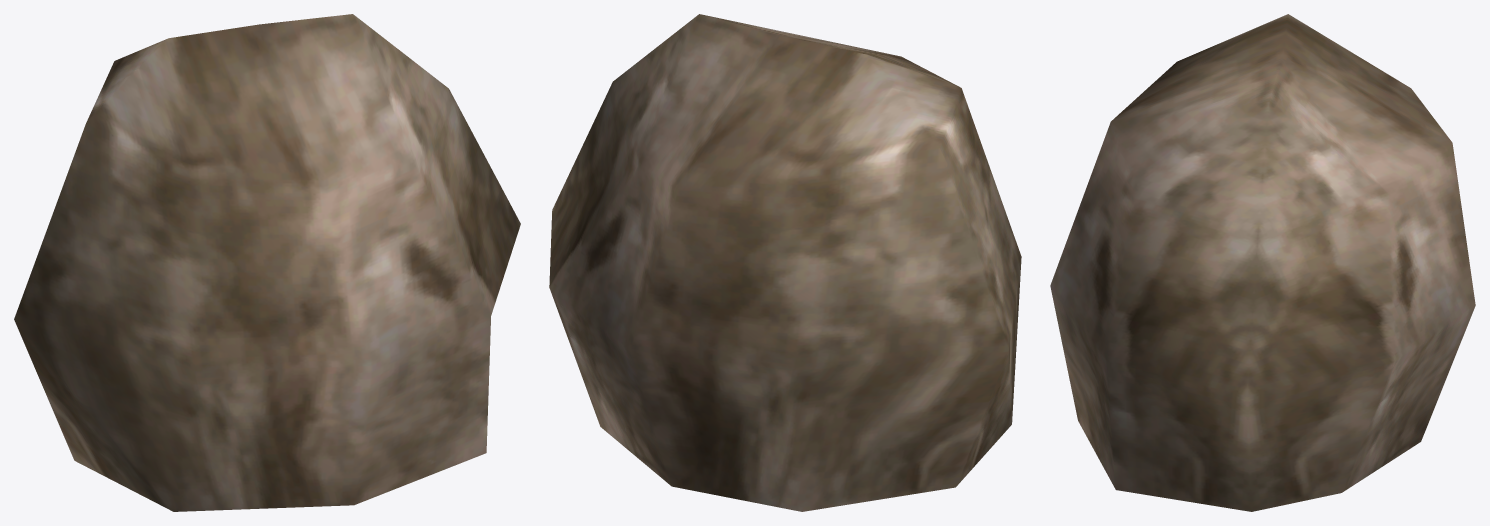
The model's file is OVERHILL_A_01_ROCK48.fbx.
The picture shows the model from 3 angles, left to right: view 1: azimuth 30°, elevation 25°; view 2: azimuth 150°, elevation 25°; view 3: azimuth 270°, elevation 25°; orthographic projection. The views are drawn at different scales.
Parts seen in each view (by area): view 1: OVERHILL_A_01_ROCK48; view 2: OVERHILL_A_01_ROCK48; view 3: OVERHILL_A_01_ROCK48.
Boxes of the visible parts, box(x1,y1,x2,y2) form: OVERHILL_A_01_ROCK48: box(14, 14, 520, 511); OVERHILL_A_01_ROCK48: box(549, 14, 1021, 511); OVERHILL_A_01_ROCK48: box(1050, 14, 1475, 511).
Bounding box in the file's own units: 14529 × 11677 × 12044.
1 material, 1 textured.
